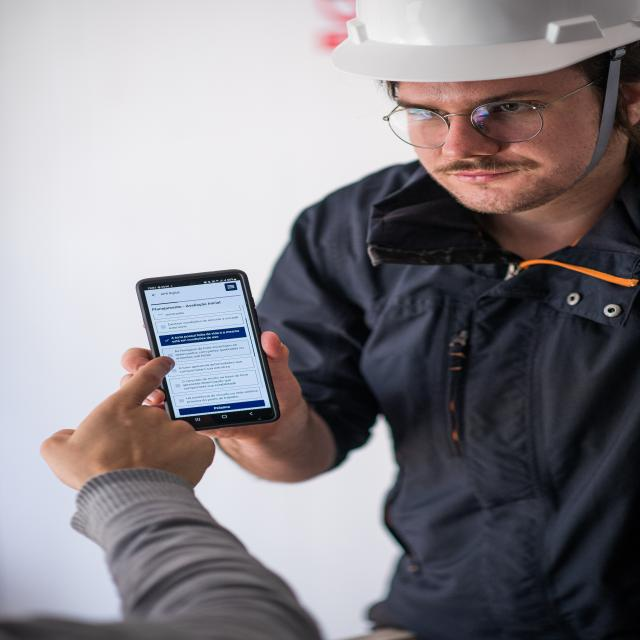capacete: (325, 0, 640, 87)
